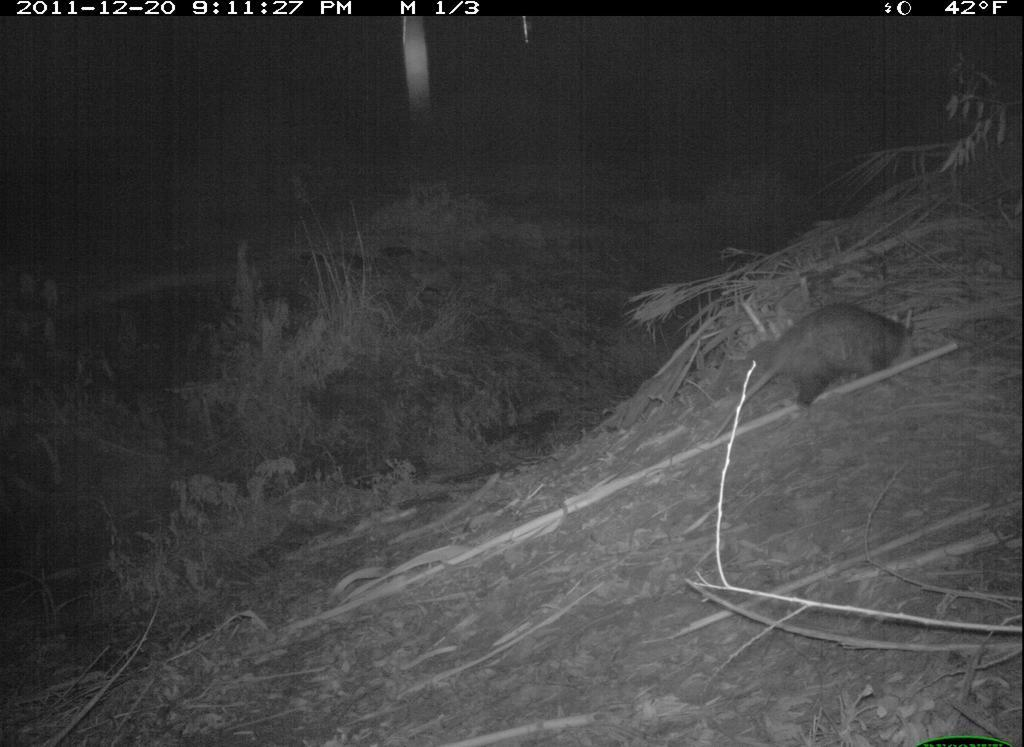opossum: (737, 306, 927, 408)
